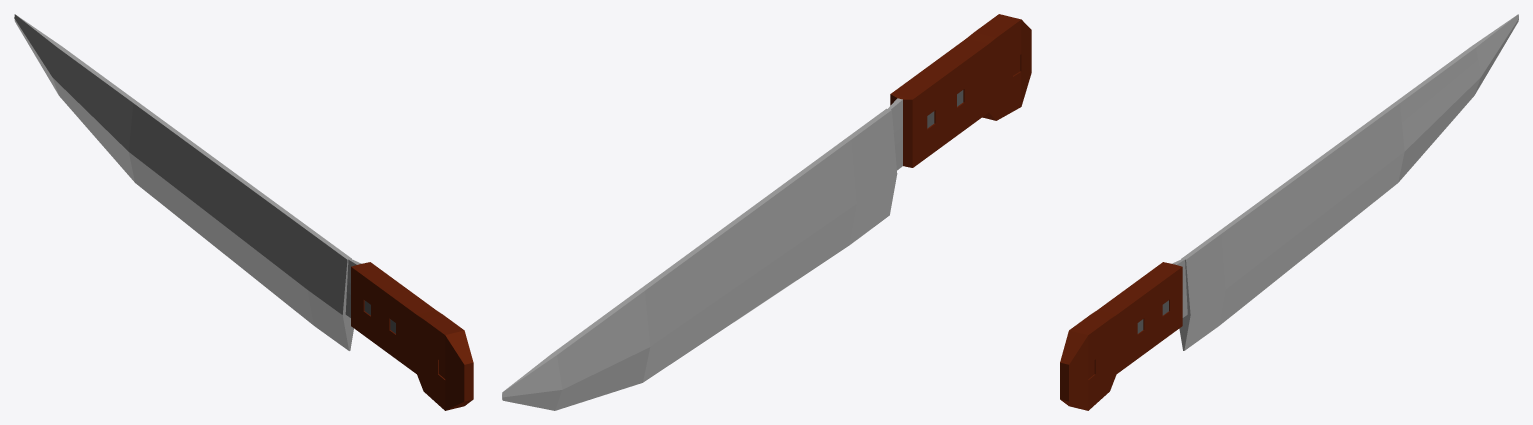
File: Knife.fbx
3 views of the same model, side by side, from view 1: azimuth 30°, elevation 25°; view 2: azimuth 150°, elevation 25°; view 3: azimuth 330°, elevation 25° (orthographic). The views are drawn at different scales.
Visible parts, largest first — view 1: Knife; view 2: Knife; view 3: Knife.
Part boxes in pixels (bbox=[...]): Knife: bbox=[14, 14, 473, 410]; Knife: bbox=[502, 14, 1031, 410]; Knife: bbox=[1060, 14, 1518, 410].
Bounding box in the file's own units: 0.0116 × 0.0545 × 0.4693.
